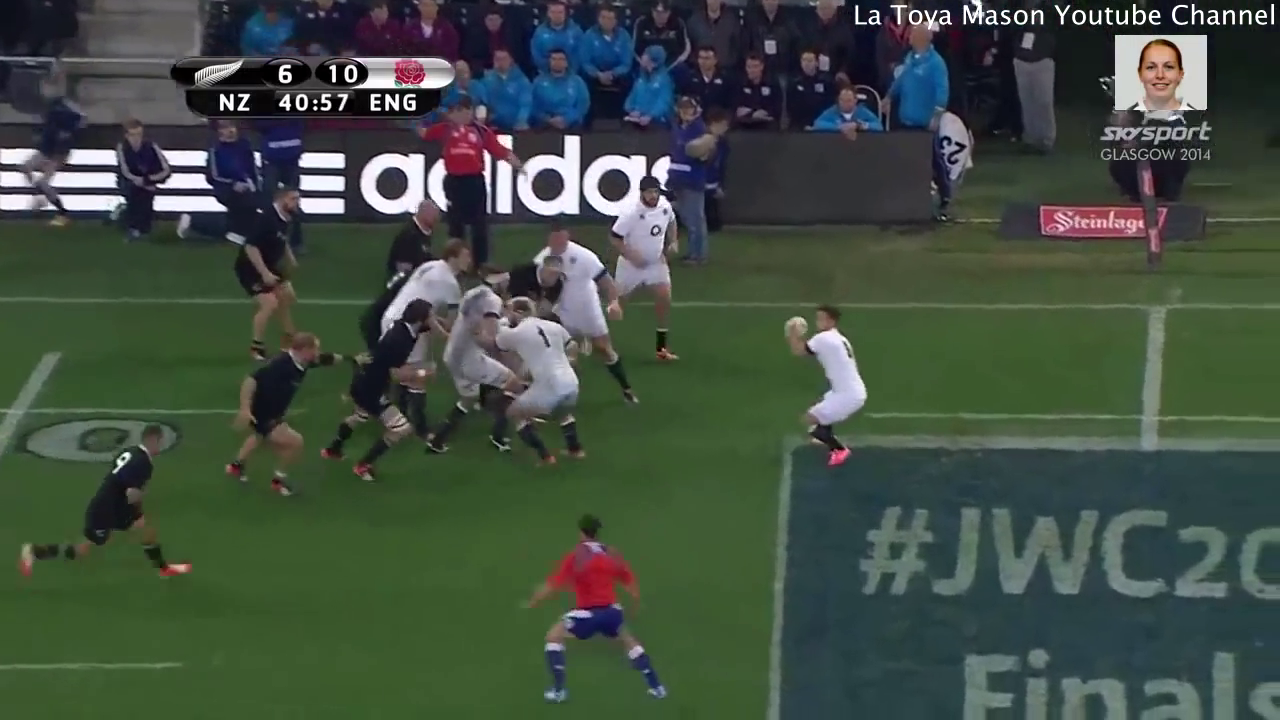ball: (771, 305, 815, 357)
player: (2, 416, 204, 602), (501, 508, 677, 716), (516, 204, 665, 428), (356, 234, 478, 456), (392, 92, 529, 284), (310, 290, 443, 483), (473, 290, 607, 480), (213, 320, 350, 503), (421, 254, 519, 471), (773, 292, 873, 496), (595, 165, 689, 376), (220, 175, 325, 358), (359, 186, 453, 294), (493, 246, 586, 324)
